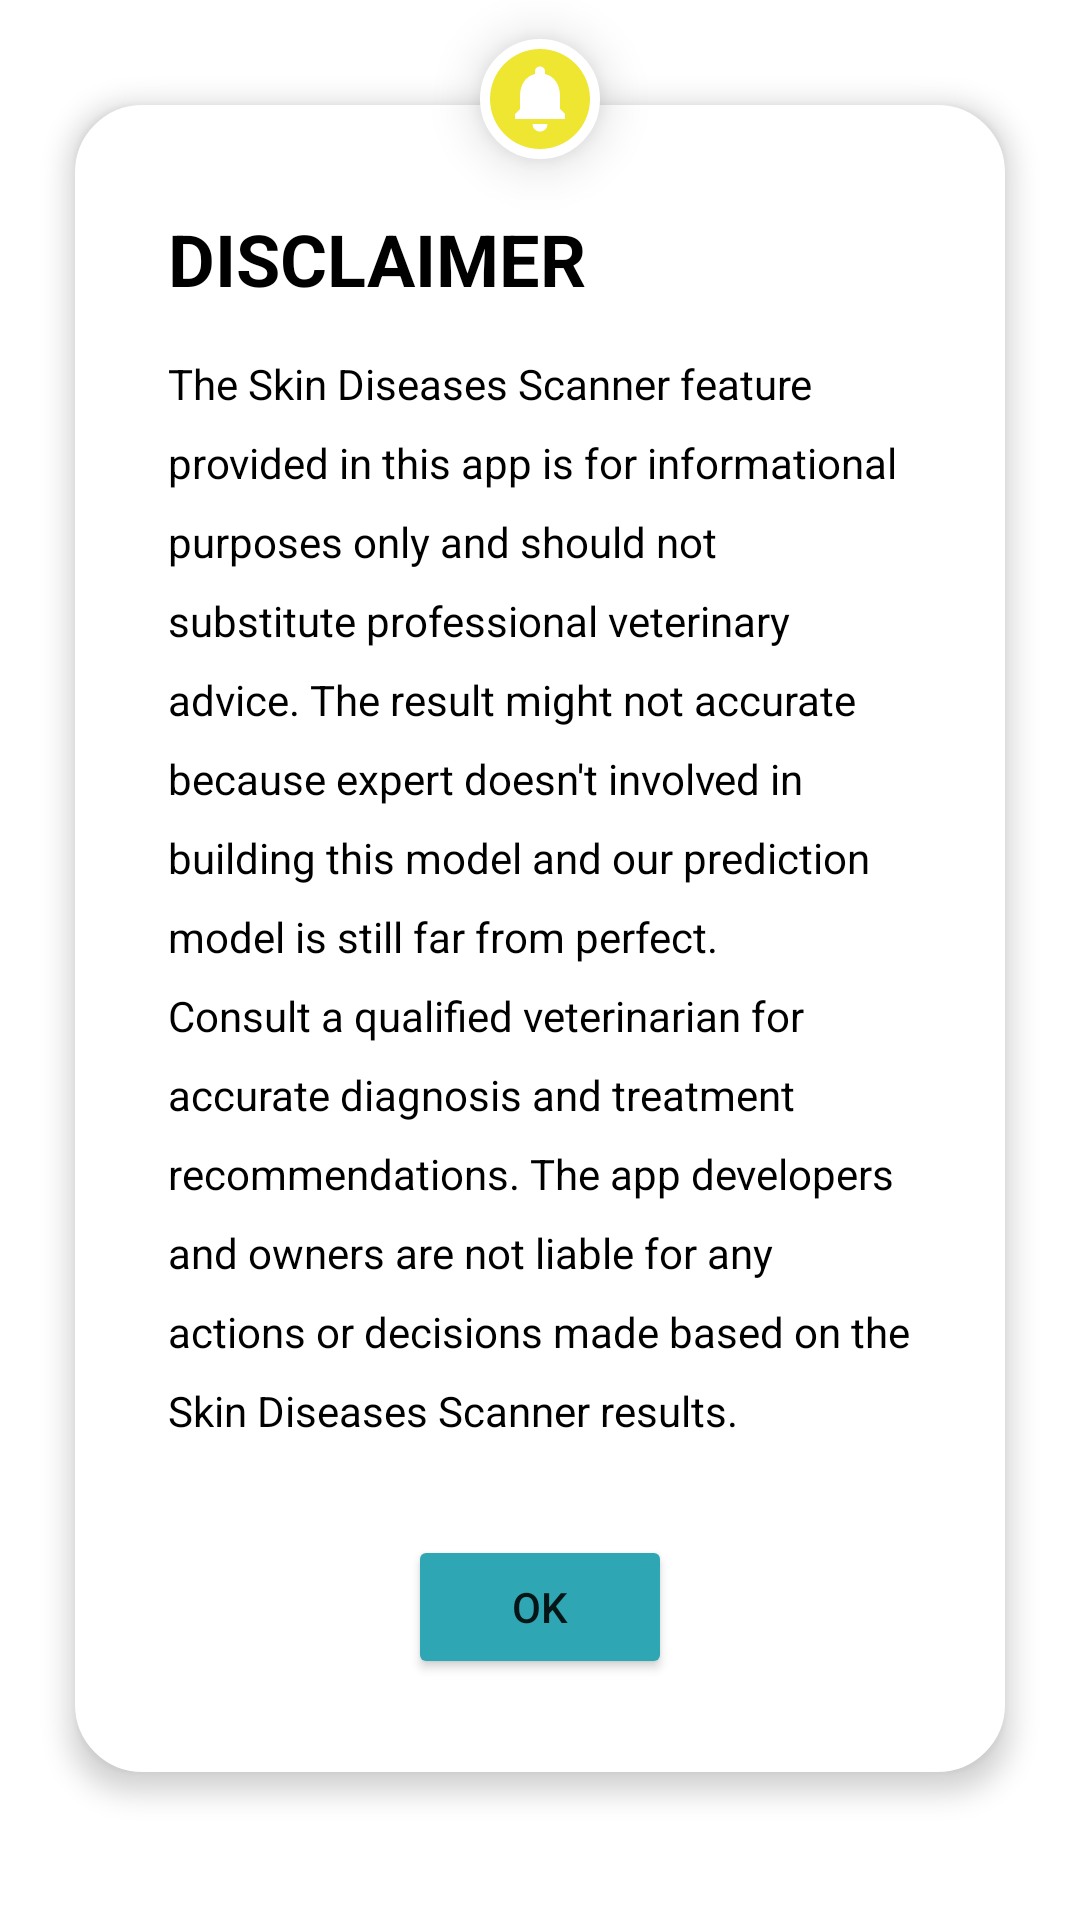

Icons on this 1080w x 1920h Android screen, each with its box as (x1, y1, x2, y2):
circle notifications: (490, 49, 590, 149)
